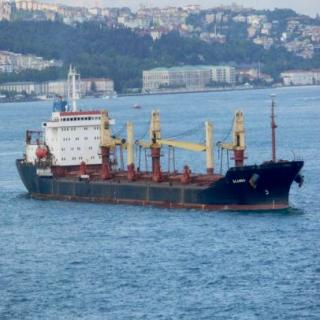Bulk Carrier: (8, 88, 303, 204)
